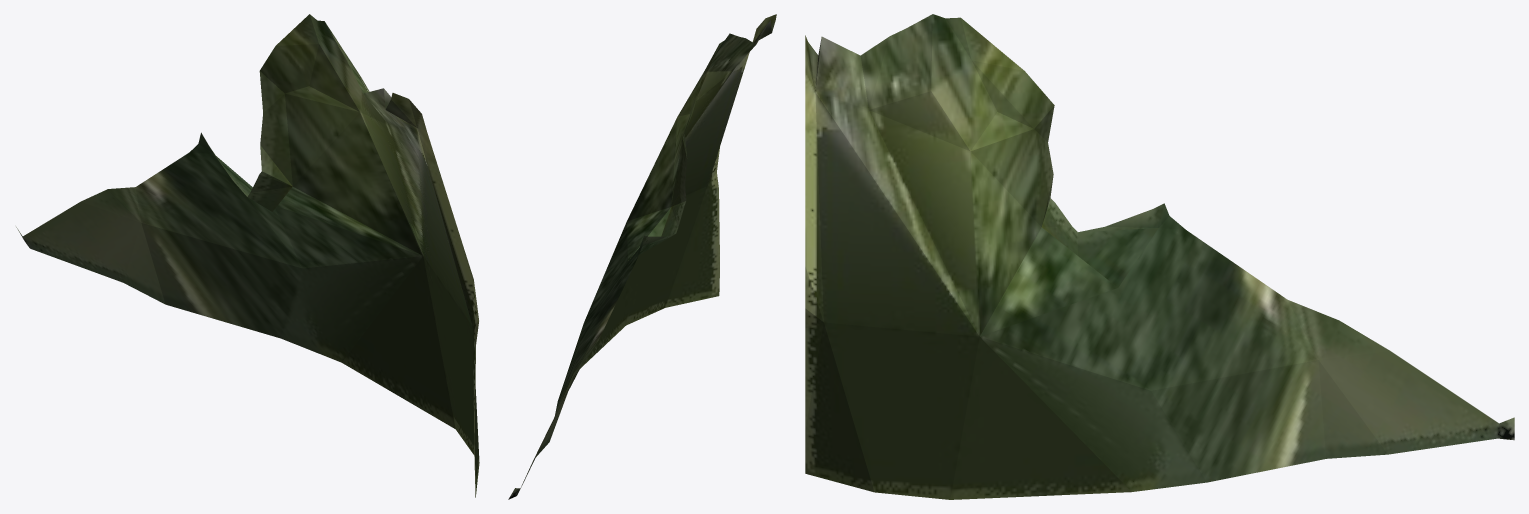
The picture shows the model from 3 angles, left to right: view 1: azimuth 30°, elevation 25°; view 2: azimuth 150°, elevation 25°; view 3: azimuth 270°, elevation 25°; orthographic projection. The views are drawn at different scales.
Size of the model in its own units: 1.26 by 3.87 by 5.9.
1 material, 1 textured.
